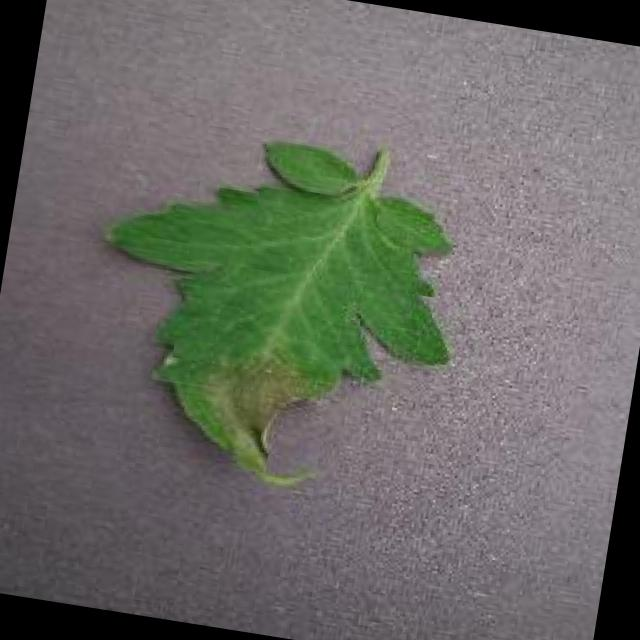Tomato_Late_Blight: (199, 346, 322, 483)
